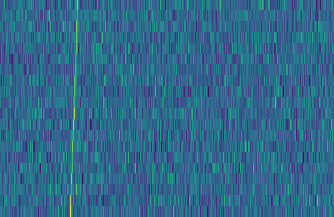signal: (64, 0, 80, 217)
